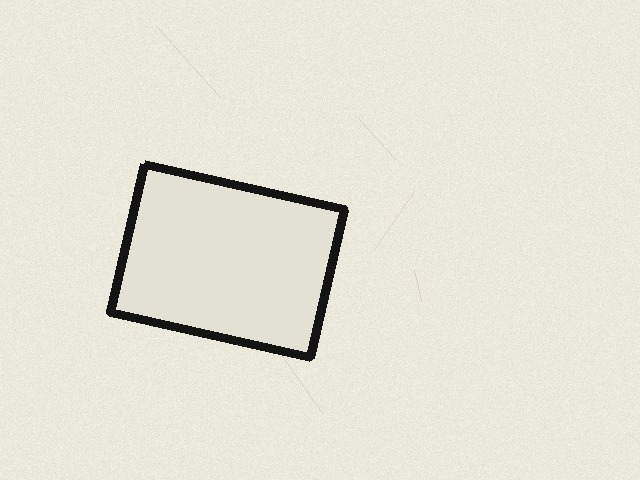parking_area: (110, 164, 344, 357)
